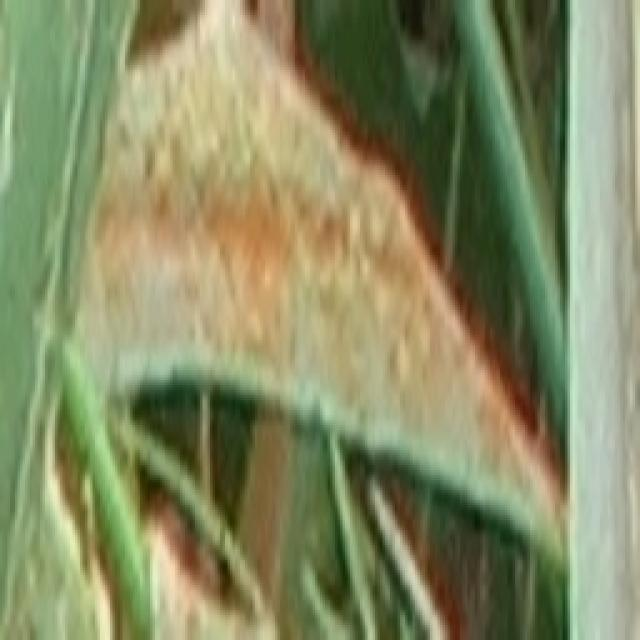Brown Rust: (38, 0, 568, 638)
